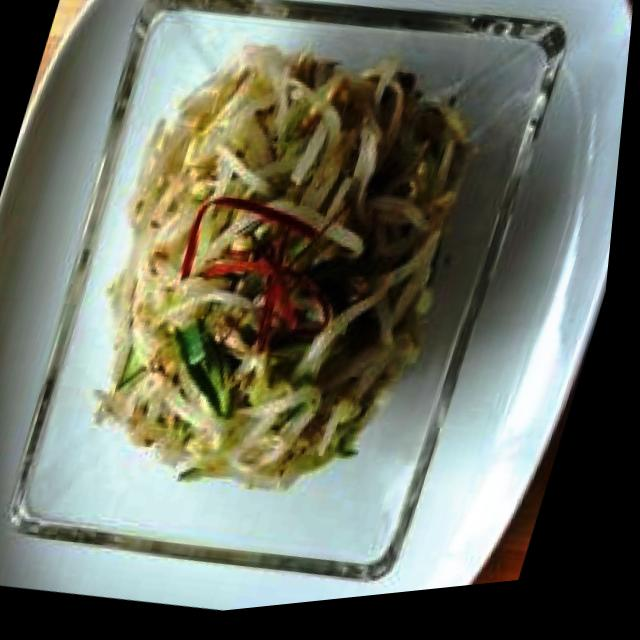mung_bean_sprouts: (53, 17, 500, 533)
